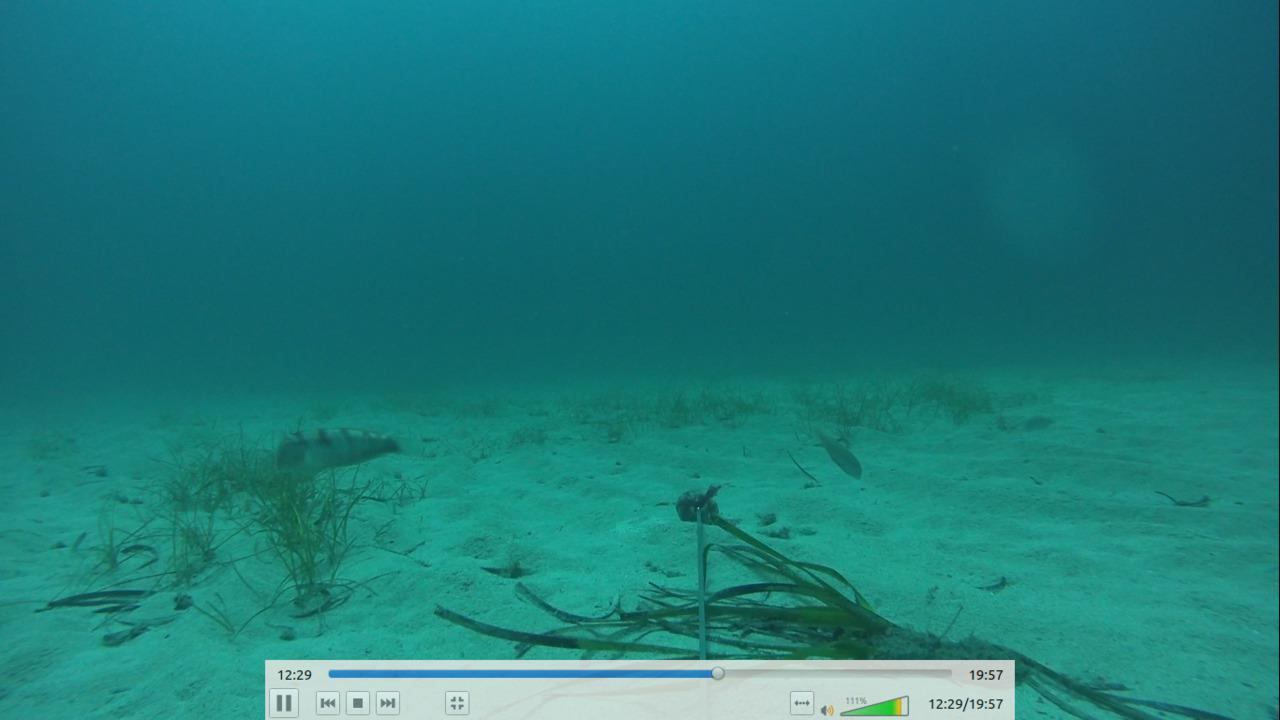raor: (268, 421, 404, 472), (813, 418, 862, 481), (1024, 415, 1058, 432)
